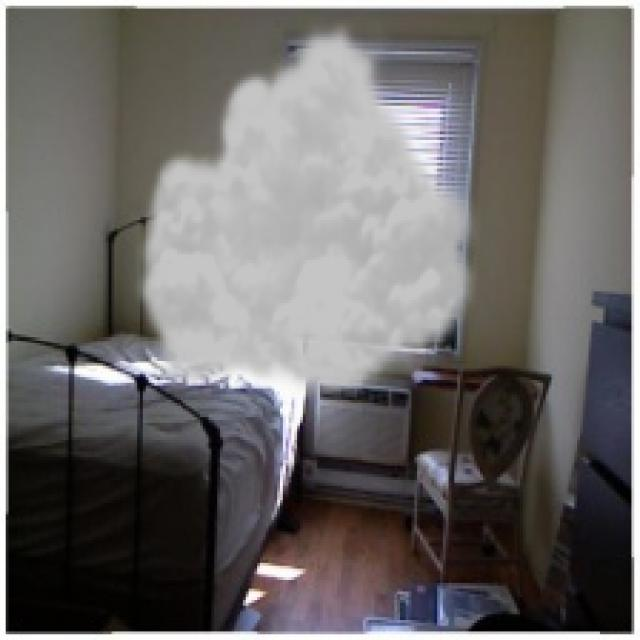smoke: (131, 17, 486, 400)
